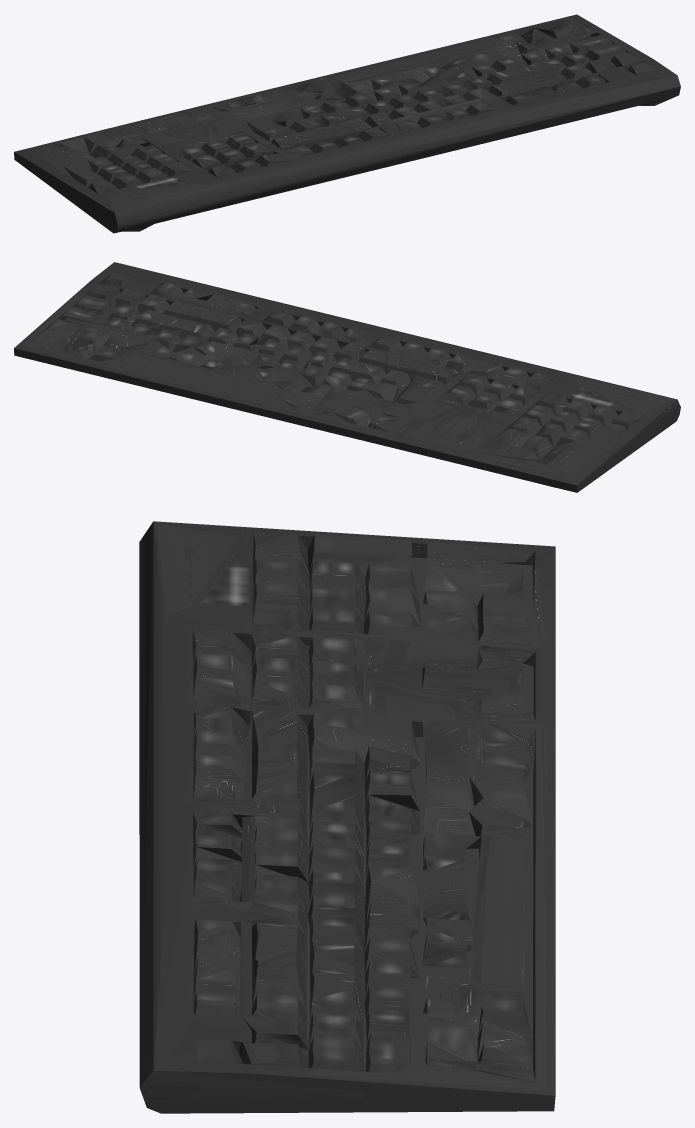
Rendered from simready-keyboard-computer.lite.68b47e6e.glb.
3 views of the same model, one above another, from view 1: azimuth 30°, elevation 25°; view 2: azimuth 150°, elevation 25°; view 3: azimuth 270°, elevation 25° (orthographic). The views are drawn at different scales.
Parts seen in each view (by area): view 1: model; view 2: model; view 3: model.
Part boxes in pixels (x1,y1,x2,y2): model: (14,14,680,233); model: (14,262,680,492); model: (139,521,555,1113).
Bounding box in the file's own units: 0.4418 × 0.0201 × 0.1411.
Materials: 1 (1 with a texture image).
